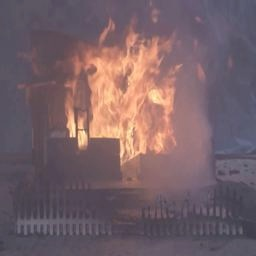fire: (58, 0, 201, 161)
